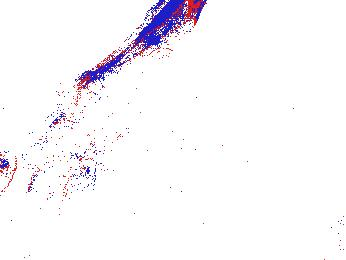X-ray fish: (45, 156, 98, 240), (1, 148, 19, 196)
glassfish: (75, 1, 204, 88)
siberian prawn: (82, 155, 222, 239), (25, 103, 163, 161)
